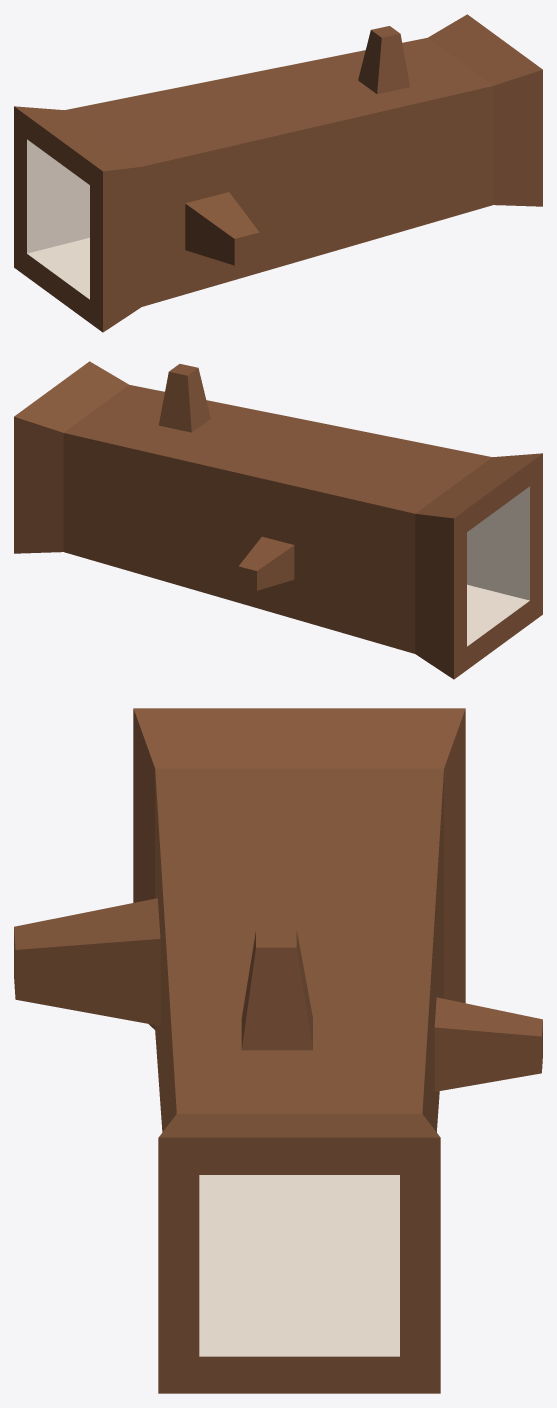
File: log.glb
The picture shows the model from 3 angles, top to bottom: view 1: azimuth 30°, elevation 25°; view 2: azimuth 150°, elevation 25°; view 3: azimuth 270°, elevation 25°; orthographic projection. The views are drawn at different scales.
Parts seen in each view (by area): view 1: log_large; view 2: log_large; view 3: log_large.
Part boxes in pixels (box(x1,y1,x2,y2)): log_large: box(14, 14, 542, 332); log_large: box(14, 361, 542, 679); log_large: box(14, 708, 542, 1393).
Bounding box in the file's own units: 1 × 0.4167 × 0.5493.
